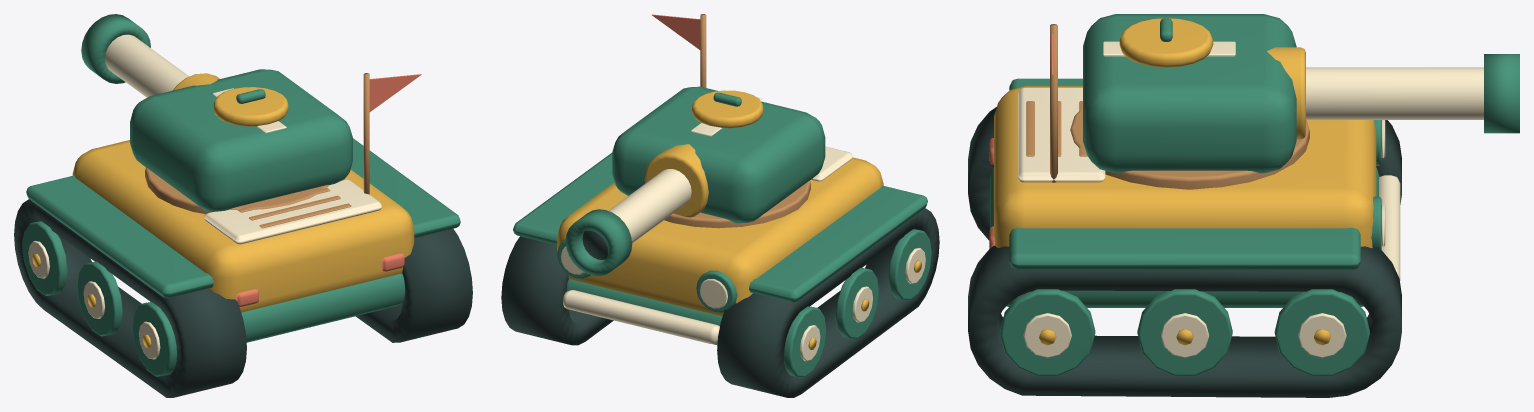
Rendered from tank-BqowN7eb.glb.
3 views of the same model, side by side, from view 1: azimuth 30°, elevation 25°; view 2: azimuth 150°, elevation 25°; view 3: azimuth 270°, elevation 25° (orthographic). The views are drawn at different scales.
Visible parts, largest first — view 1: tank_surfaces, turret_surfaces, barrel_surfaces; view 2: tank_surfaces, turret_surfaces, barrel_surfaces; view 3: tank_surfaces, turret_surfaces, barrel_surfaces.
Boxes of the visible parts, left/top/right/bottom form: tank_surfaces: left=14, top=73, right=472, bottom=397; turret_surfaces: left=130, top=69, right=352, bottom=213; barrel_surfaces: left=81, top=14, right=219, bottom=97; tank_surfaces: left=501, top=14, right=939, bottom=397; turret_surfaces: left=612, top=86, right=825, bottom=228; barrel_surfaces: left=565, top=144, right=708, bottom=275; tank_surfaces: left=968, top=24, right=1401, bottom=397; turret_surfaces: left=1070, top=14, right=1309, bottom=189; barrel_surfaces: left=1267, top=47, right=1519, bottom=139.
Bounding box in the file's own units: 2.81 × 2.33 × 3.53.
